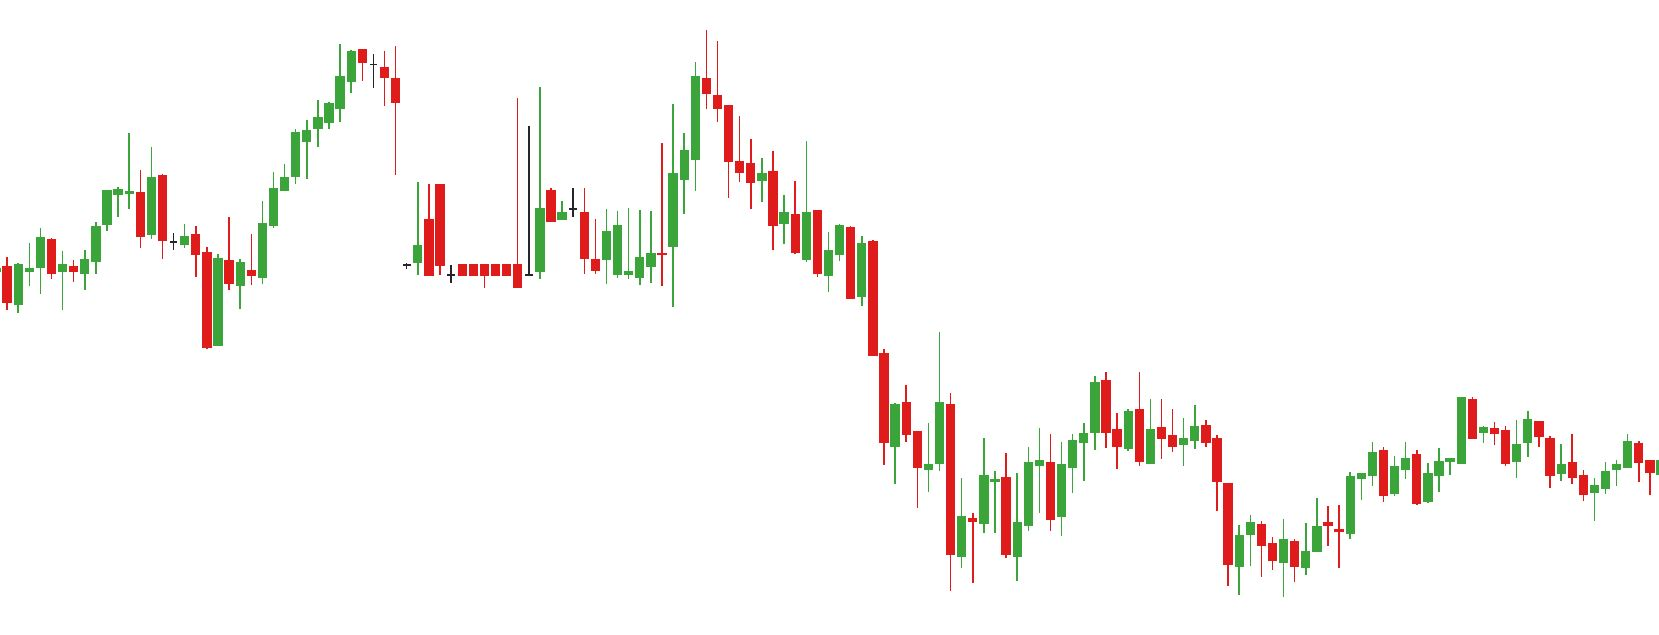buy: (1010, 476, 1245, 600)
sell: (532, 31, 712, 219)
